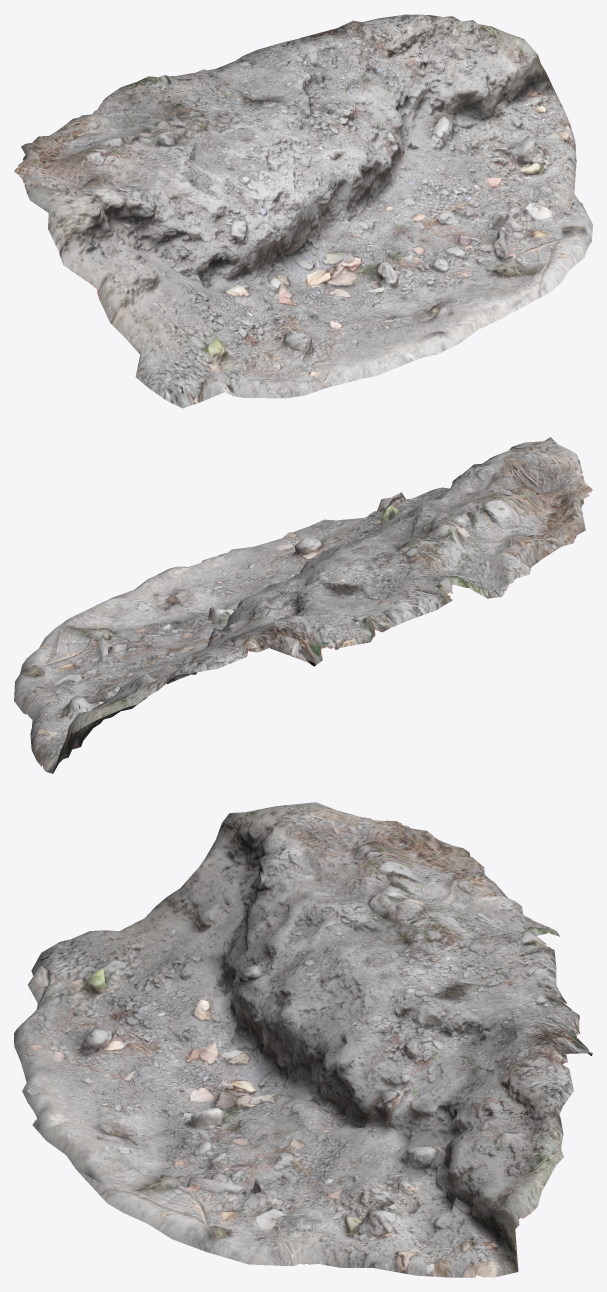
File: TerrainDeco006.fbx
3 views of the same model, one above another, from view 1: azimuth 30°, elevation 25°; view 2: azimuth 210°, elevation 25°; view 3: azimuth 270°, elevation 25° (orthographic). The views are drawn at different scales.
Visible parts, largest first — view 1: TD06_LOD0; view 2: TD06_LOD0; view 3: TD06_LOD0.
Part boxes in pixels (<box>): TD06_LOD0: <box>14,14,592,408</box>; TD06_LOD0: <box>14,437,592,773</box>; TD06_LOD0: <box>14,802,592,1277</box>.
Size of the model in its own units: 458 by 105 by 319.
